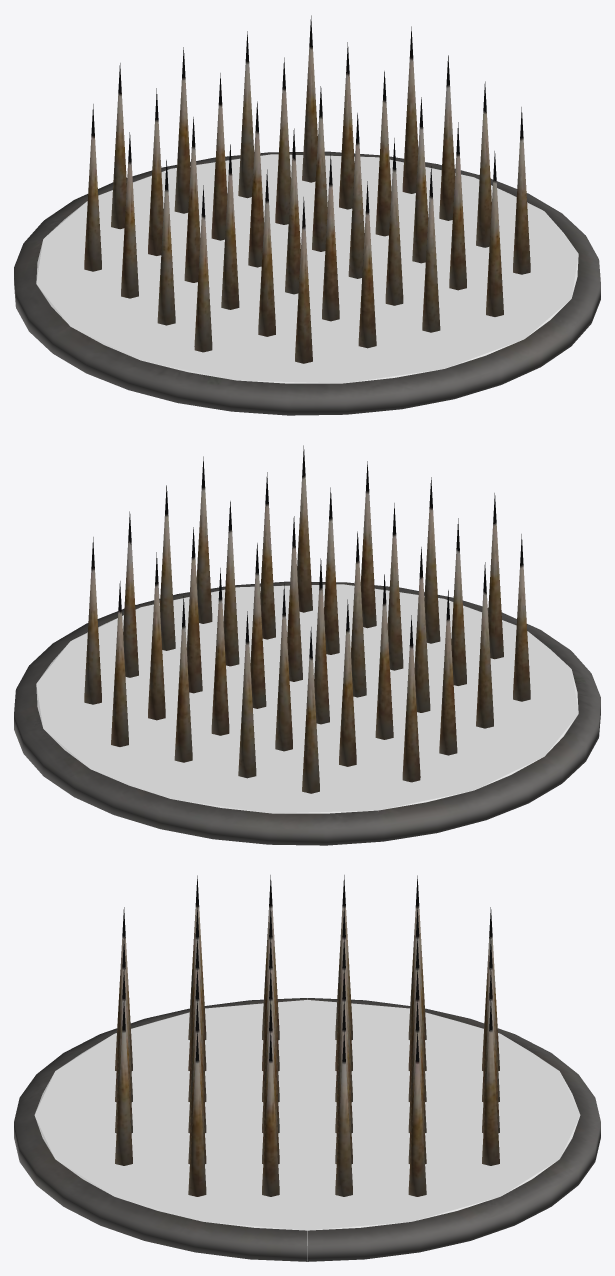
File: spike_grate.webp.glb
The picture shows the model from 3 angles, top to bottom: view 1: azimuth 30°, elevation 25°; view 2: azimuth 150°, elevation 25°; view 3: azimuth 270°, elevation 25°; orthographic projection.
Parts seen in each view (by area): view 1: COL, LOD0_SPIKES, LOD0_body; view 2: COL, LOD0_SPIKES, LOD0_body; view 3: COL, LOD0_body, LOD0_SPIKES.
Part boxes in pixels (<box>): COL: <box>36,154,578,383</box>; LOD0_SPIKES: <box>84,15,530,363</box>; LOD0_body: <box>14,151,600,415</box>; COL: <box>36,584,578,813</box>; LOD0_SPIKES: <box>84,445,530,793</box>; LOD0_body: <box>14,581,600,845</box>; COL: <box>34,998,580,1261</box>; LOD0_body: <box>14,998,600,1261</box>; LOD0_SPIKES: <box>115,875,499,1196</box>.
Bounding box in the file's own units: 2 × 0.7 × 2.
1 material, 1 textured.
